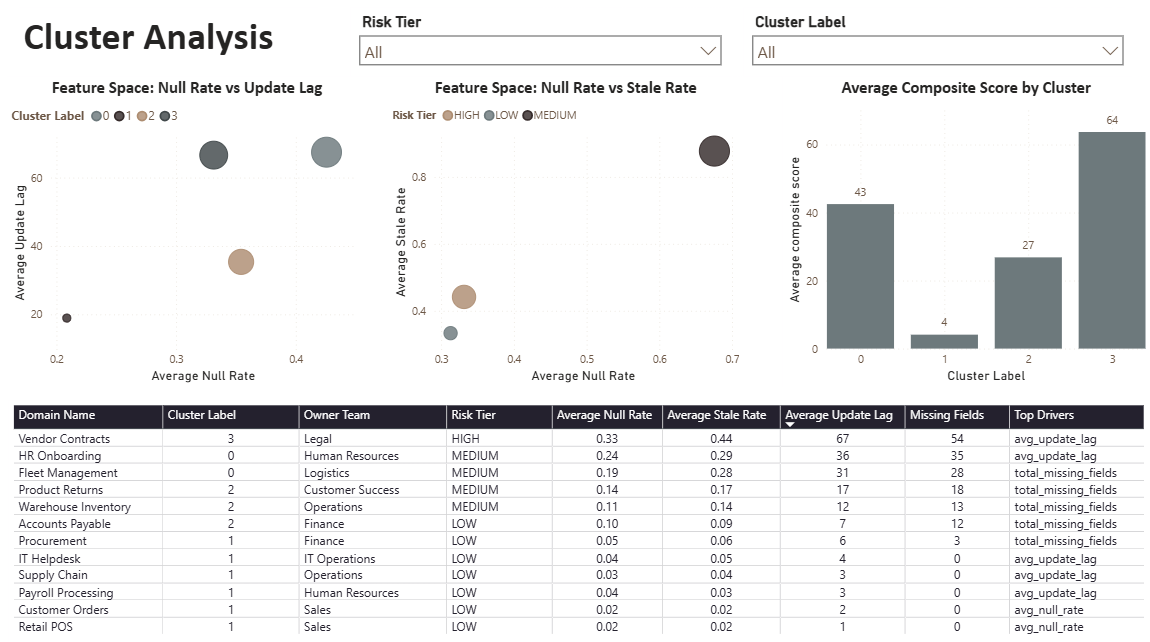

This screenshot's page, from the dashboard's own definition file:
{"tool":"powerbi","page":{"name":"Cluster Analysis","canvas":[1280,720],"ordinal":2},"visuals":[{"type":"scatterChart","title":"Feature Space: Null Rate vs Update Lag","fields":{"X":["Sum(risk_features_raw.avg_null_rate)"],"Y":["Sum(risk_features_raw.avg_update_lag)"],"Series":["risk_scores.cluster_label"],"Size":["Sum(risk_features_raw.total_missing_fields)"]},"box":[10,88.3,400,345],"z":0},{"type":"scatterChart","title":"Feature Space: Null Rate vs Stale Rate","fields":{"X":["Sum(risk_features_raw.avg_null_rate)"],"Size":["Sum(risk_features_raw.total_missing_fields)"],"Y":["Sum(risk_features_raw.avg_stale_rate)"],"Series":["risk_scores.risk_tier"]},"box":[433.3,88.3,395,345],"z":1000},{"type":"tableEx","fields":{"Values":["domains.domain_name","Sum(risk_scores.cluster_label)","domains.owner_team","risk_scores.risk_tier","Sum(risk_features_raw.avg_null_rate)","Sum(risk_features_raw.avg_stale_rate)","Sum(risk_features_raw.avg_update_lag)","Sum(risk_features_raw.total_missing_fields)","risk_scores.top_driver"]},"box":[11.7,448.3,1268.3,271.7],"z":2000},{"type":"clusteredColumnChart","title":"Average Composite Score by Cluster","fields":{"Y":["Avg(risk_scores.composite_score)"],"Category":["risk_scores.cluster_label"]},"box":[871.7,88.3,408.3,345],"z":3000},{"type":"textbox","box":[23.3,11.7,331.7,76.7],"z":4000},{"type":"slicer","fields":{"Values":["risk_scores.risk_tier"]},"box":[391.7,11.7,421.7,76.7],"z":5000},{"type":"slicer","fields":{"Values":["risk_scores.cluster_label"]},"box":[828.3,11.7,431.7,76.7],"z":6000}]}

Visuals, with their boxes in screenshot pixels (x1, y1, x2, y2), scaled from the page's 1280x720 canvas onto the 1150x642 screenshot:
"Feature Space: Null Rate vs Update Lag" scatterChart: bbox=(9, 79, 368, 386)
"Feature Space: Null Rate vs Stale Rate" scatterChart: bbox=(389, 79, 744, 386)
tableEx - domains.domain_name x Sum(risk_scores.cluster_label): bbox=(11, 400, 1149, 641)
"Average Composite Score by Cluster" clusteredColumnChart: bbox=(783, 79, 1149, 386)
textbox: bbox=(21, 10, 319, 79)
slicer - risk_scores.risk_tier: bbox=(352, 10, 731, 79)
slicer - risk_scores.cluster_label: bbox=(744, 10, 1132, 79)
